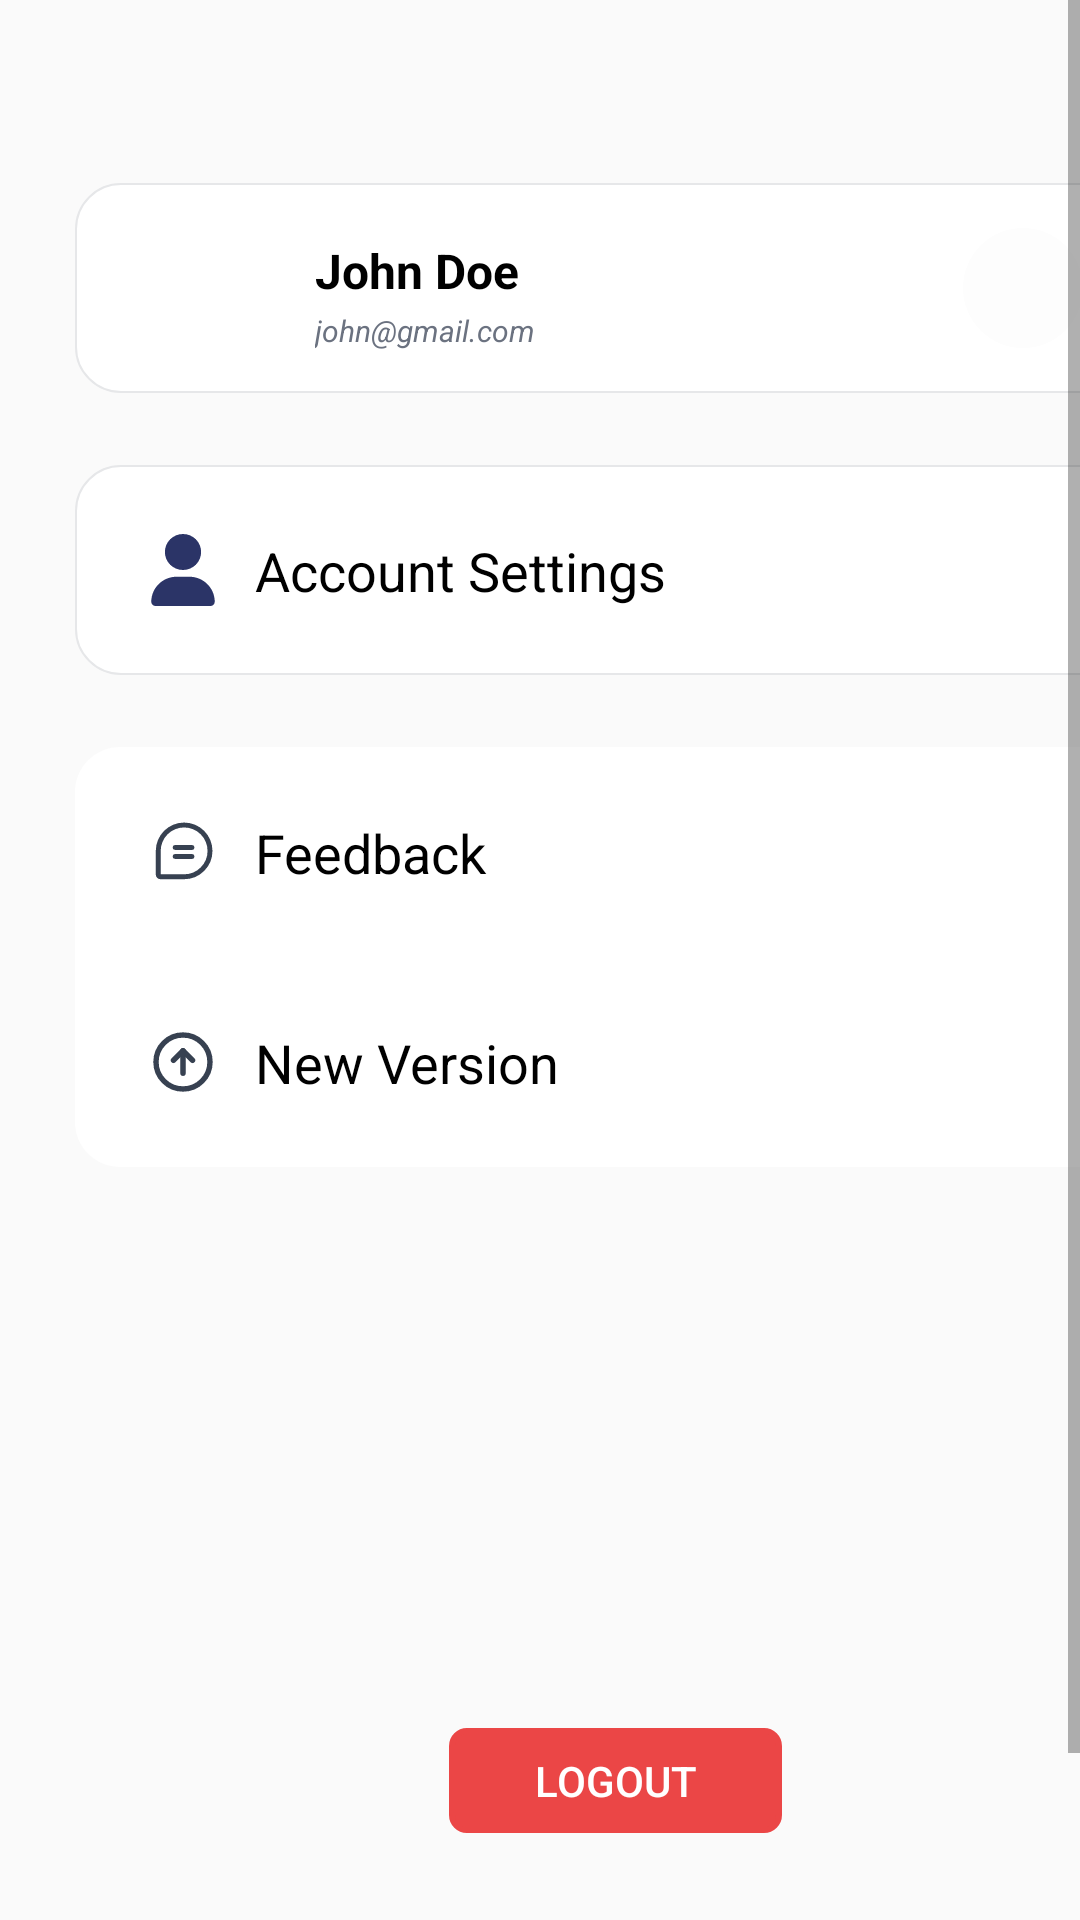

Screen size 1080 x 1920. Icon name, then its box in pixels as [x1, y1, x2, y2]:
profile: [151, 534, 215, 606]
